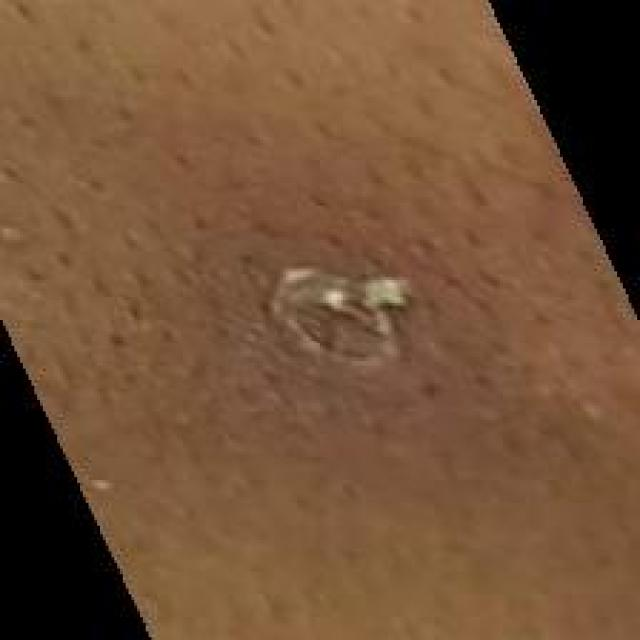monkeypox: (193, 197, 450, 483)
